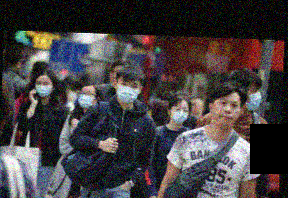with_mask: (116, 78, 141, 104), (246, 85, 263, 112), (171, 102, 189, 125), (33, 78, 53, 98), (77, 88, 96, 109)
without_mask: (213, 95, 239, 129)
